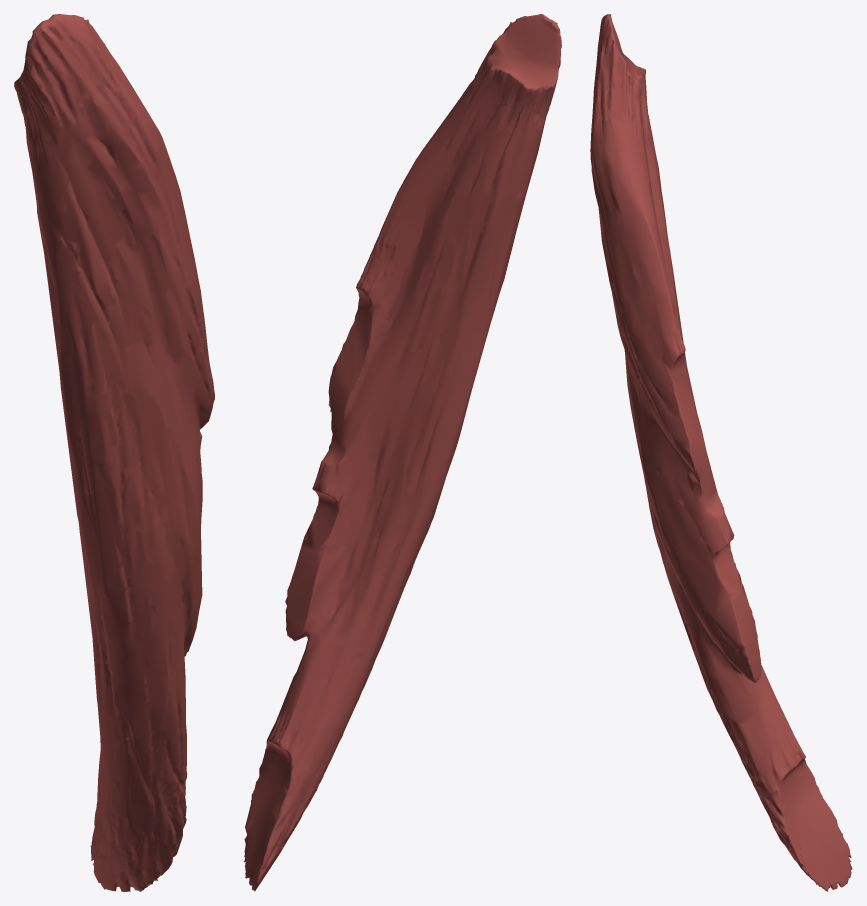
The model's file is FMA46287.glb.
3 renders of one model, left to right at view 1: azimuth 30°, elevation 25°; view 2: azimuth 150°, elevation 25°; view 3: azimuth 270°, elevation 25°, orthographic. The views are drawn at different scales.
Parts seen in each view (by area): view 1: FMA46287; view 2: FMA46287; view 3: FMA46287.
Boxes of the visible parts, x1,y1,x2,y2 form: FMA46287: [14, 14, 214, 891]; FMA46287: [243, 14, 561, 891]; FMA46287: [590, 14, 852, 891].
Bounding box in the file's own units: 0.0204 × 0.0734 × 0.022.
